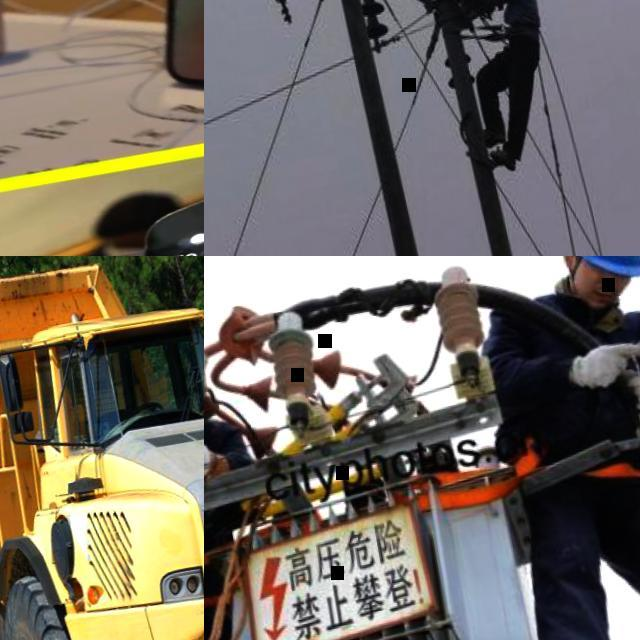helmet: (556, 256, 640, 288)
